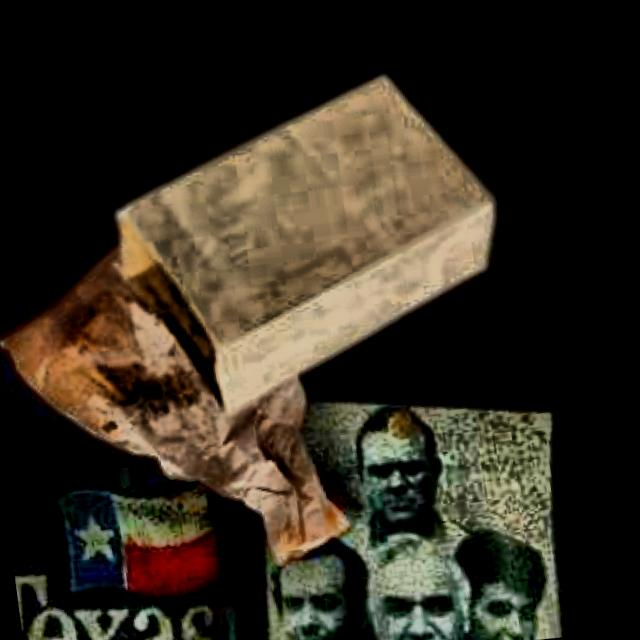Paper-bag: (58, 37, 538, 447), (0, 166, 390, 608)
